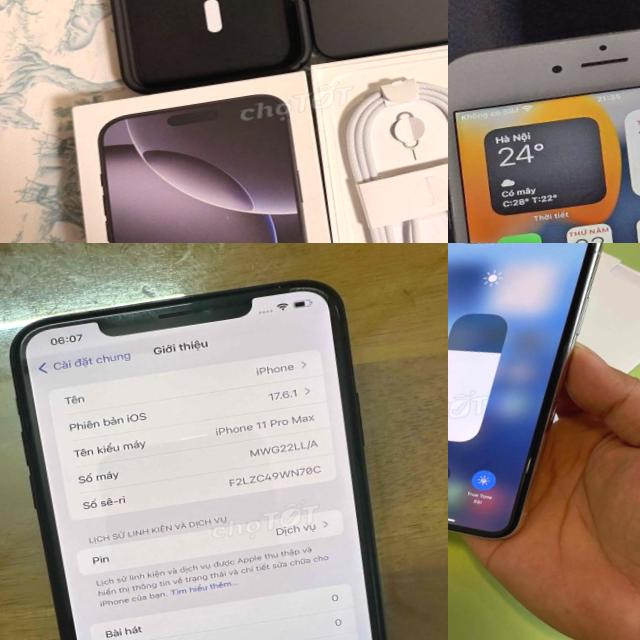gen_11: (0, 261, 425, 640)
gen_6: (448, 30, 640, 243)
gen_x_xs: (448, 243, 600, 538)
scratch: (93, 284, 238, 336)
